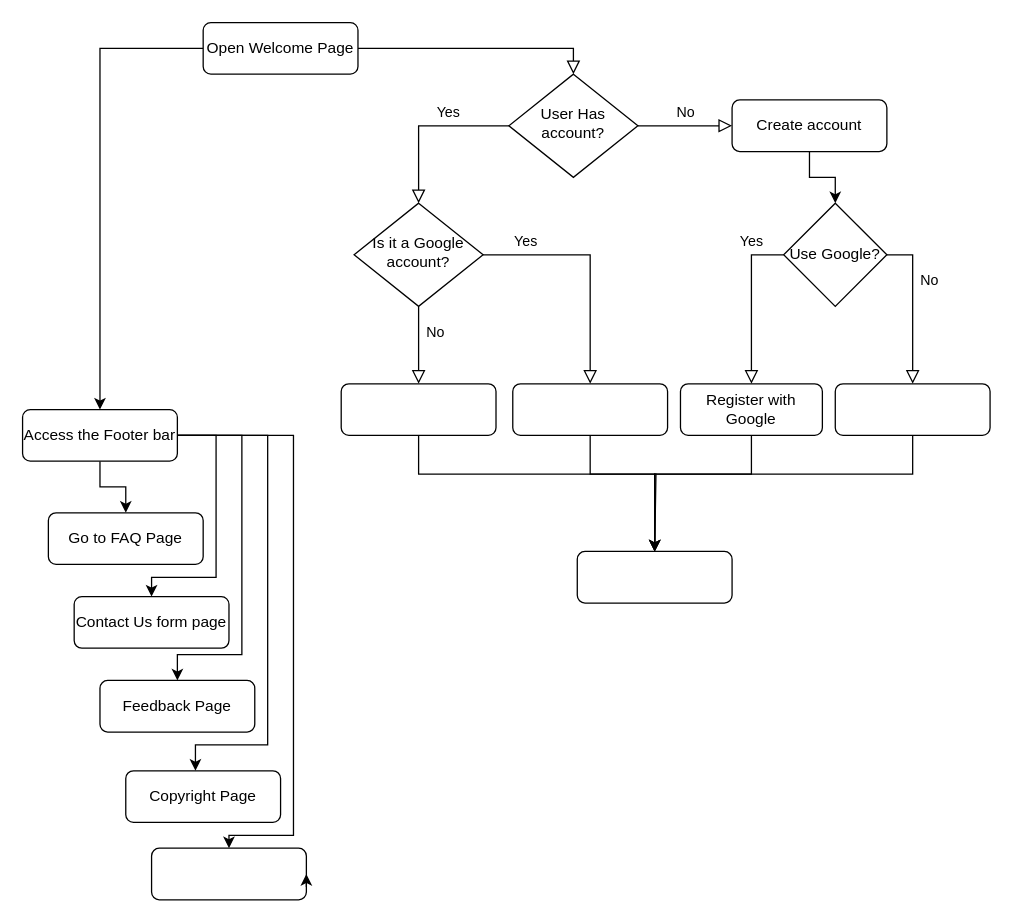
Some shapes in this 1013 by 922 pixel diagram are drawn without their labels. The centre of each missing label's shape, as x and y in pixels:
"Register a local account" belongs at point 912,408.
"Terms & Privacy Page" belongs at point 228,873.
"Travel to Profile Page" belongs at point 654,576.
"Use Google sign in" belongs at point 589,408.
"Use local Sign in" belongs at point 418,408.
